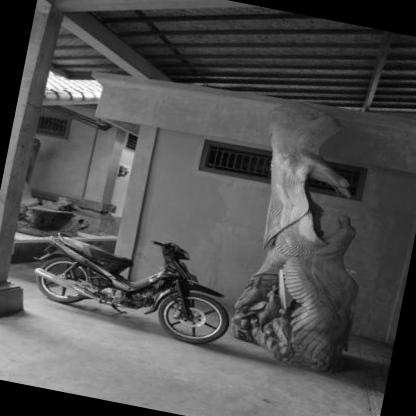moto: (18, 212, 251, 366)
